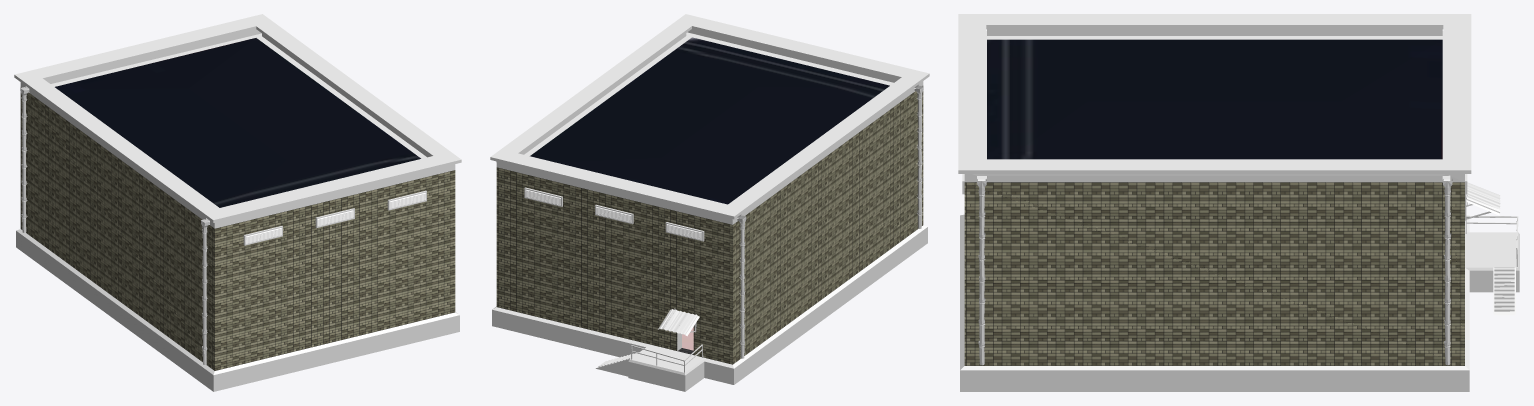
Rendered from building.gltf.
3 views of the same model, side by side, from view 1: azimuth 30°, elevation 25°; view 2: azimuth 150°, elevation 25°; view 3: azimuth 270°, elevation 25° (orthographic). The views are drawn at different scales.
Visible parts, largest first — view 1: Building; view 2: Building, Porch.Foundation, Porch.Roof; view 3: Building, Porch.Foundation, Porch.Roof.
Part boxes in pixels (box(x1,y1,x2,y2)): Building: box(14, 14, 461, 391); Building: box(490, 14, 929, 384); Porch.Foundation: box(595, 344, 705, 391); Porch.Roof: box(658, 309, 699, 336); Building: box(958, 14, 1471, 391); Porch.Foundation: box(1465, 232, 1519, 315); Porch.Roof: box(1466, 182, 1500, 215).
Bounding box in the file's own units: 31.44 × 20.69 × 47.14.
Materials: 6 (2 with a texture image).
